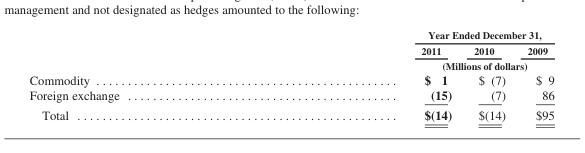table: (28, 29, 553, 121)
table column: (28, 29, 269, 121), (269, 29, 462, 121), (462, 29, 515, 121), (515, 29, 553, 121)
table column header: (28, 29, 553, 71)
table row: (28, 86, 553, 104), (28, 104, 553, 121), (28, 42, 553, 57), (28, 71, 553, 86), (28, 57, 553, 71), (28, 29, 553, 42)
table spanning cell: (269, 57, 553, 71), (269, 29, 553, 42)
